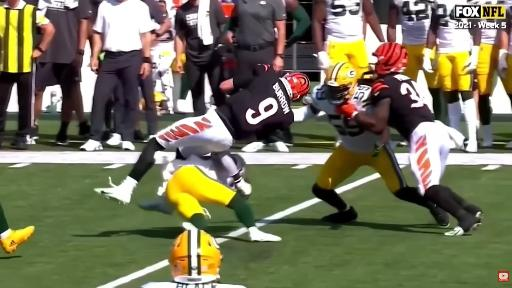Helmet: (169, 230, 222, 283), (324, 62, 357, 104), (373, 43, 408, 74), (283, 72, 310, 101), (231, 154, 245, 177)
Jersey: (216, 66, 293, 140), (310, 84, 379, 152), (371, 74, 434, 140), (163, 155, 232, 187), (434, 0, 471, 53), (394, 0, 431, 44), (325, 0, 363, 42), (142, 282, 244, 287), (469, 0, 505, 5), (508, 31, 511, 54)
Player: (96, 65, 310, 203), (338, 43, 481, 235), (294, 63, 449, 226), (140, 150, 281, 241), (423, 0, 480, 152), (142, 230, 243, 287), (312, 0, 384, 77), (387, 0, 431, 81), (476, 29, 499, 147), (0, 204, 34, 253), (498, 0, 511, 102)
